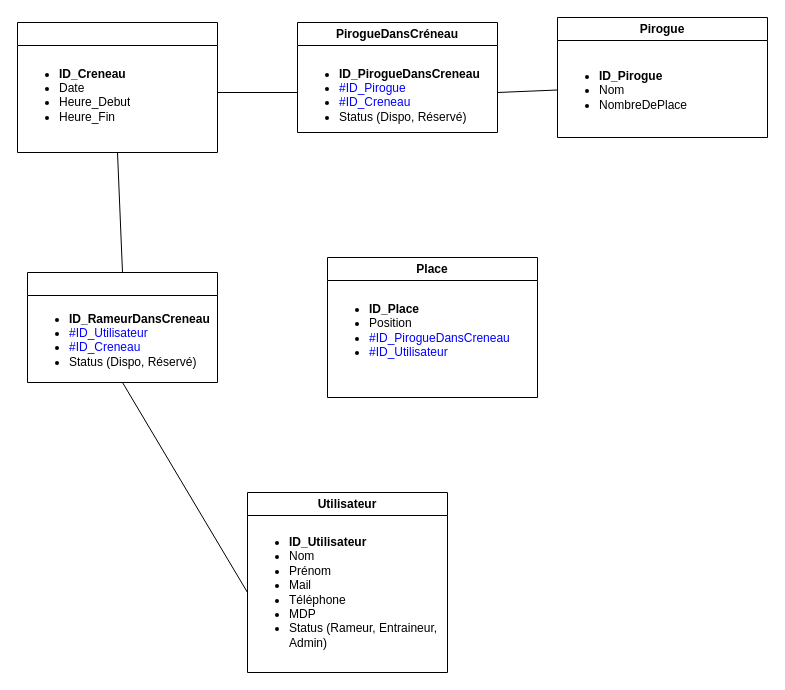
The diagram is 785 pixels wide and 690 high, and some of its shapes have lost their labels. Here are the shapes that lost their labels. From the top down, the box of each, then its label:
(16, 22, 218, 152): Créneau
(26, 272, 218, 382): RameurDansCréneau
